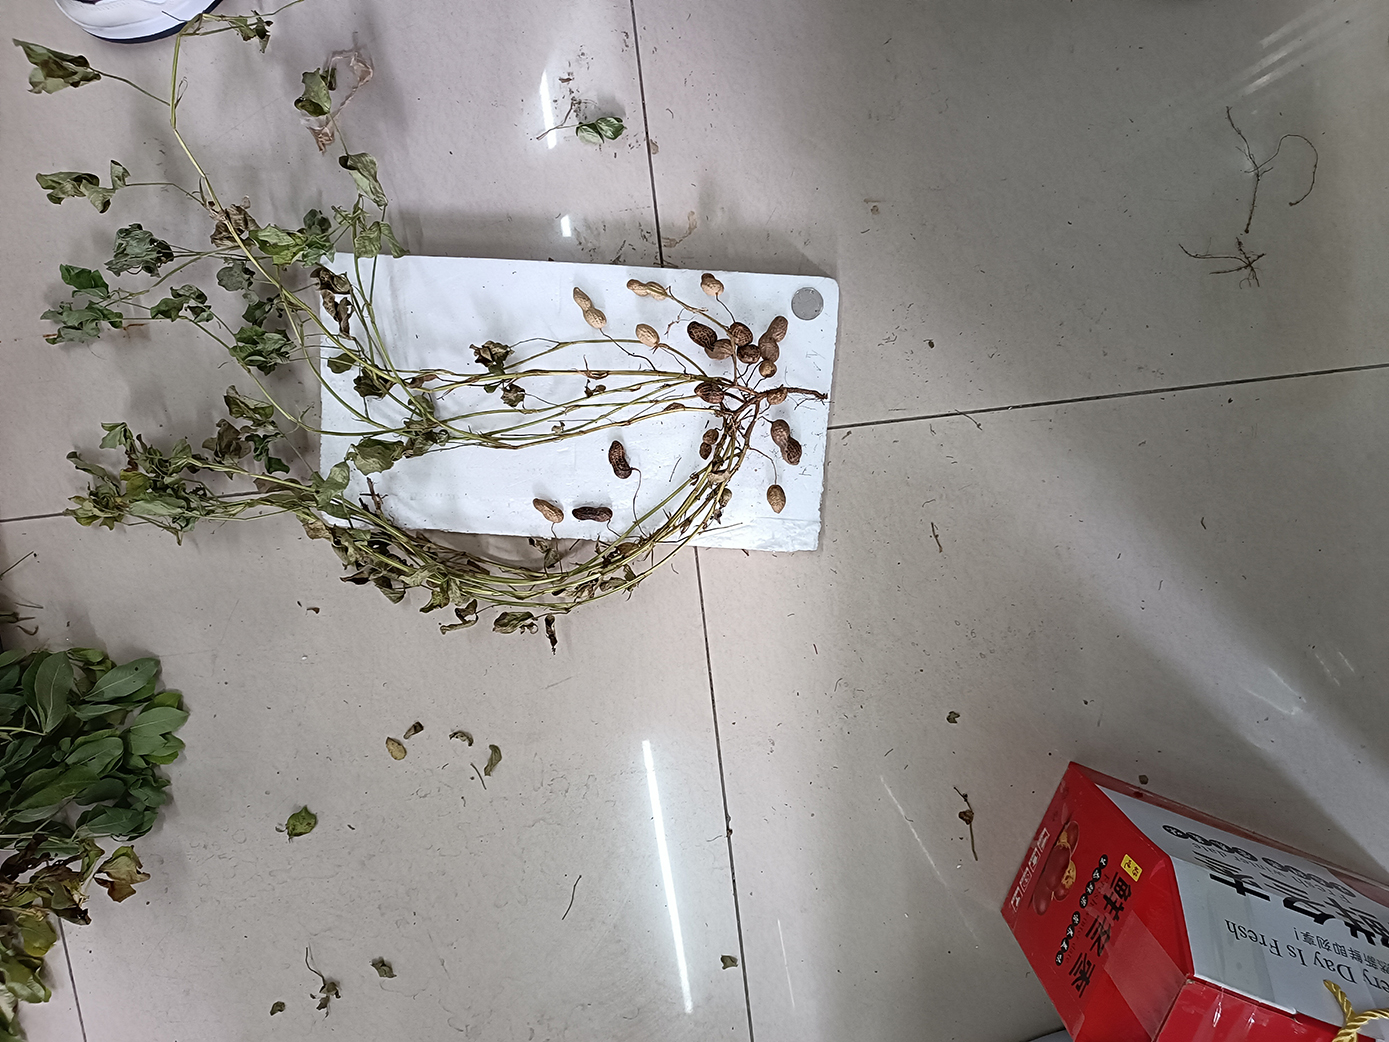h: (572, 287, 607, 328), (759, 315, 788, 362), (626, 279, 668, 301), (532, 498, 564, 522), (635, 323, 660, 347), (705, 339, 732, 361), (701, 273, 725, 297), (767, 484, 786, 514), (759, 360, 777, 378)
l: (769, 419, 806, 466), (607, 440, 633, 479), (686, 320, 718, 349), (694, 381, 725, 404), (572, 507, 613, 522), (699, 429, 719, 460), (729, 322, 754, 345), (737, 344, 760, 364), (767, 387, 788, 405)
